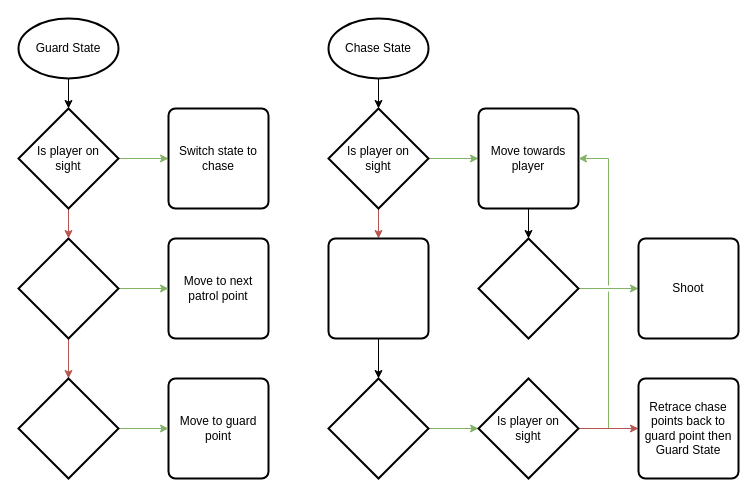
Image size: 756x496. Some labels were removed from this diagram. The box of each missing label's shape, as (x1, y1, x2, y2) in pixels:
If far from guard point: (17, 377, 119, 479)
If has patrol route: (17, 237, 119, 339)
Is player in range: (477, 237, 579, 339)
Move to last player position: (327, 237, 429, 339)
Near player's last position: (327, 377, 429, 479)
